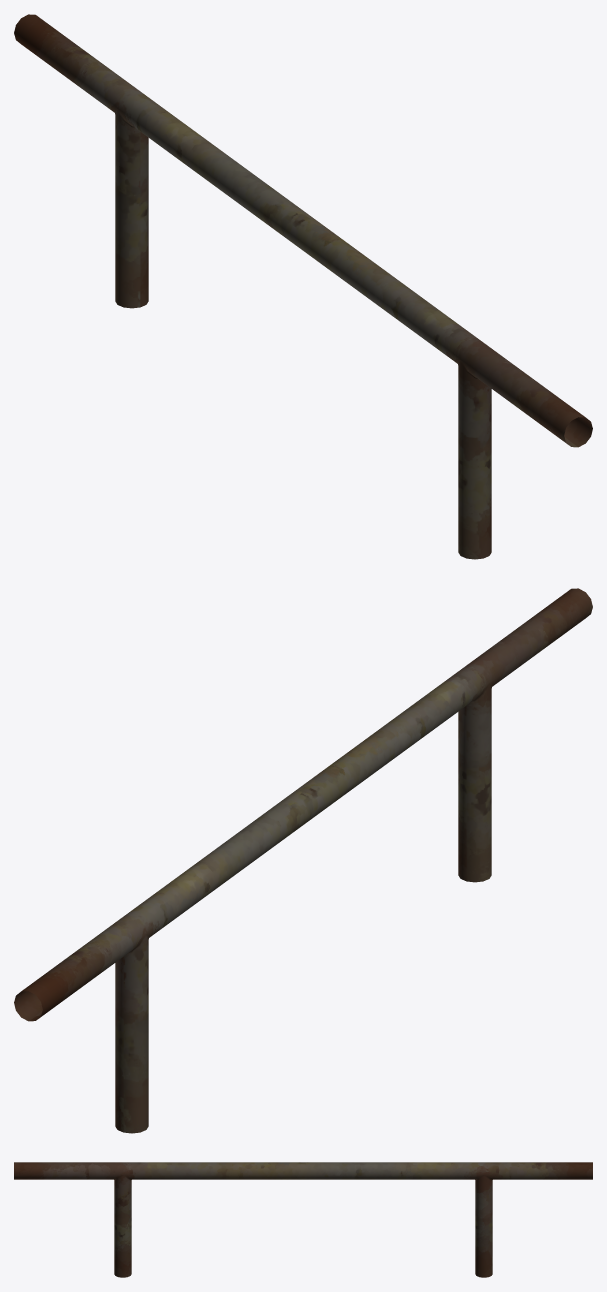
The model's file is OBJ_Barrier.fbx.
The picture shows the model from 3 angles, top to bottom: view 1: azimuth 30°, elevation 25°; view 2: azimuth 150°, elevation 25°; view 3: azimuth 270°, elevation 25°; orthographic projection. The views are drawn at different scales.
Parts seen in each view (by area): view 1: Barrier; view 2: Barrier; view 3: Barrier.
Part boxes in pixels (x1=…): Barrier: x1=14, y1=14, x2=592, y2=559; Barrier: x1=14, y1=588, x2=592, y2=1133; Barrier: x1=14, y1=1162, x2=592, y2=1277.
Size of the model in its own units: 0.1212 by 4 by 0.847.
